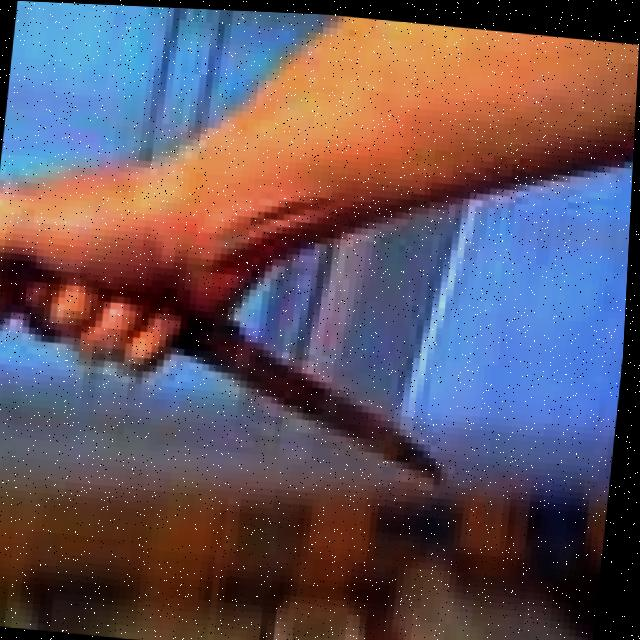knife: (171, 305, 488, 506)
